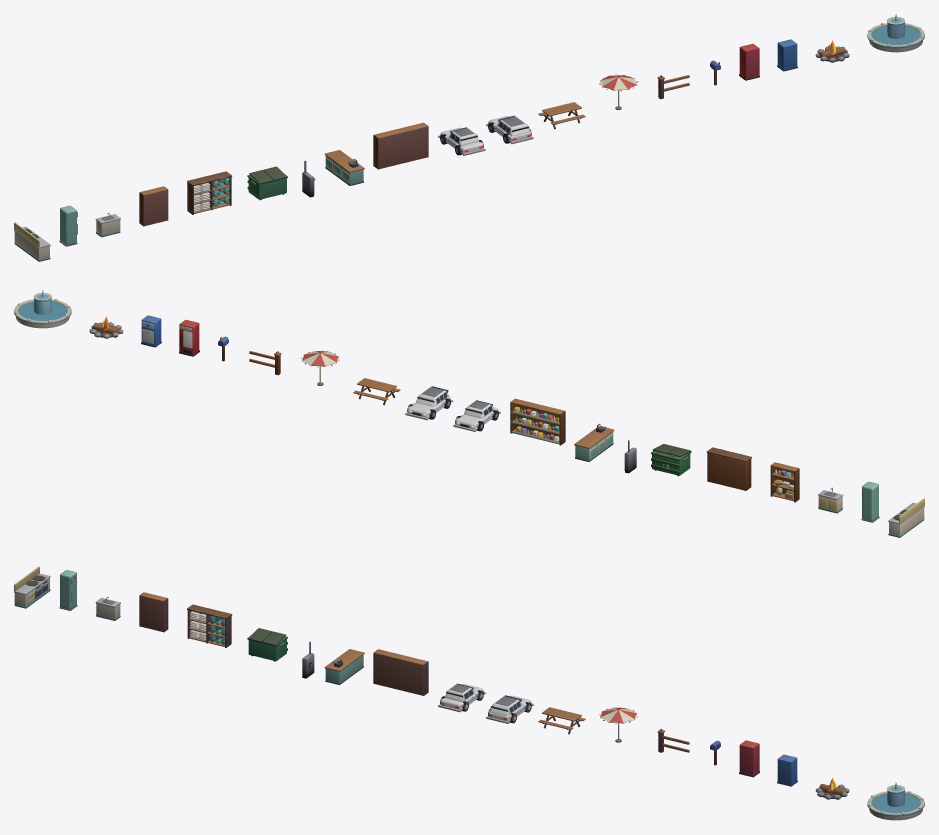
File: motel_kit_batch2.fbx
The picture shows the model from 3 angles, top to bottom: view 1: azimuth 30°, elevation 25°; view 2: azimuth 150°, elevation 25°; view 3: azimuth 330°, elevation 25°; orthographic projection.
Parts seen in each view (by area): view 1: SM_Shop_Shelf, SM_Station_LinenShelf, SM_Yard_Fountain, SM_Kitchen_Pantry, SM_Station_Dumpster, SM_Shop_Counter, SM_Kitchen_Stove, SM_Yard_Vending, SM_Kitchen_Fridge, SM_Yard_IceMachine, SM_Yard_PicnicTable, SM_Vehicle_Sedan_Body (+2 smaller); view 2: SM_Shop_Shelf, SM_Station_LinenShelf, SM_Yard_Fountain, SM_Kitchen_Pantry, SM_Station_Dumpster, SM_Shop_Counter, SM_Kitchen_Stove, SM_Kitchen_Fridge, SM_Yard_IceMachine, SM_Yard_Vending, SM_Vehicle_Wagon_Body, SM_Yard_PicnicTable (+2 smaller); view 3: SM_Shop_Shelf, SM_Station_LinenShelf, SM_Yard_Fountain, SM_Kitchen_Pantry, SM_Station_Dumpster, SM_Kitchen_Stove, SM_Shop_Counter, SM_Yard_Vending, SM_Kitchen_Fridge, SM_Yard_IceMachine, SM_Yard_PicnicTable, SM_Vehicle_Sedan_Body (+2 smaller).
Part boxes in pixels (x1,y1,x2,y2): SM_Shop_Shelf: [373, 122, 428, 169]; SM_Station_LinenShelf: [187, 171, 232, 214]; SM_Yard_Fountain: [867, 17, 924, 52]; SM_Kitchen_Pantry: [139, 186, 168, 226]; SM_Station_Dumpster: [247, 166, 287, 200]; SM_Shop_Counter: [324, 150, 364, 185]; SM_Kitchen_Stove: [14, 222, 50, 261]; SM_Yard_Vending: [739, 43, 759, 80]; SM_Kitchen_Fridge: [59, 205, 77, 246]; SM_Yard_IceMachine: [777, 39, 797, 71]; SM_Yard_PicnicTable: [538, 102, 585, 129]; SM_Vehicle_Sedan_Body: [440, 127, 483, 153]; SM_Shop_Shelf: [510, 398, 565, 445]; SM_Station_LinenShelf: [706, 447, 751, 490]; SM_Yard_Fountain: [14, 293, 71, 328]; SM_Kitchen_Pantry: [770, 462, 799, 502]; SM_Station_Dumpster: [651, 444, 691, 476]; SM_Shop_Counter: [574, 423, 614, 461]; SM_Kitchen_Stove: [888, 498, 924, 537]; SM_Kitchen_Fridge: [861, 481, 879, 522]; SM_Yard_IceMachine: [141, 315, 161, 347]; SM_Yard_Vending: [179, 319, 199, 356]; SM_Vehicle_Wagon_Body: [407, 387, 450, 417]; SM_Yard_PicnicTable: [353, 378, 400, 405]; SM_Shop_Shelf: [373, 649, 428, 695]; SM_Station_LinenShelf: [187, 604, 232, 647]; SM_Yard_Fountain: [867, 785, 924, 820]; SM_Kitchen_Pantry: [139, 592, 168, 632]; SM_Station_Dumpster: [247, 628, 287, 661]; SM_Kitchen_Stove: [14, 566, 50, 608]; SM_Shop_Counter: [324, 649, 364, 684]; SM_Yard_Vending: [739, 740, 759, 777]; SM_Kitchen_Fridge: [59, 570, 77, 610]; SM_Yard_IceMachine: [777, 754, 797, 786]; SM_Yard_PicnicTable: [538, 707, 585, 734]; SM_Vehicle_Sedan_Body: [440, 684, 483, 710].
Size of the model in its own units: 191 by 9 by 10.72.
